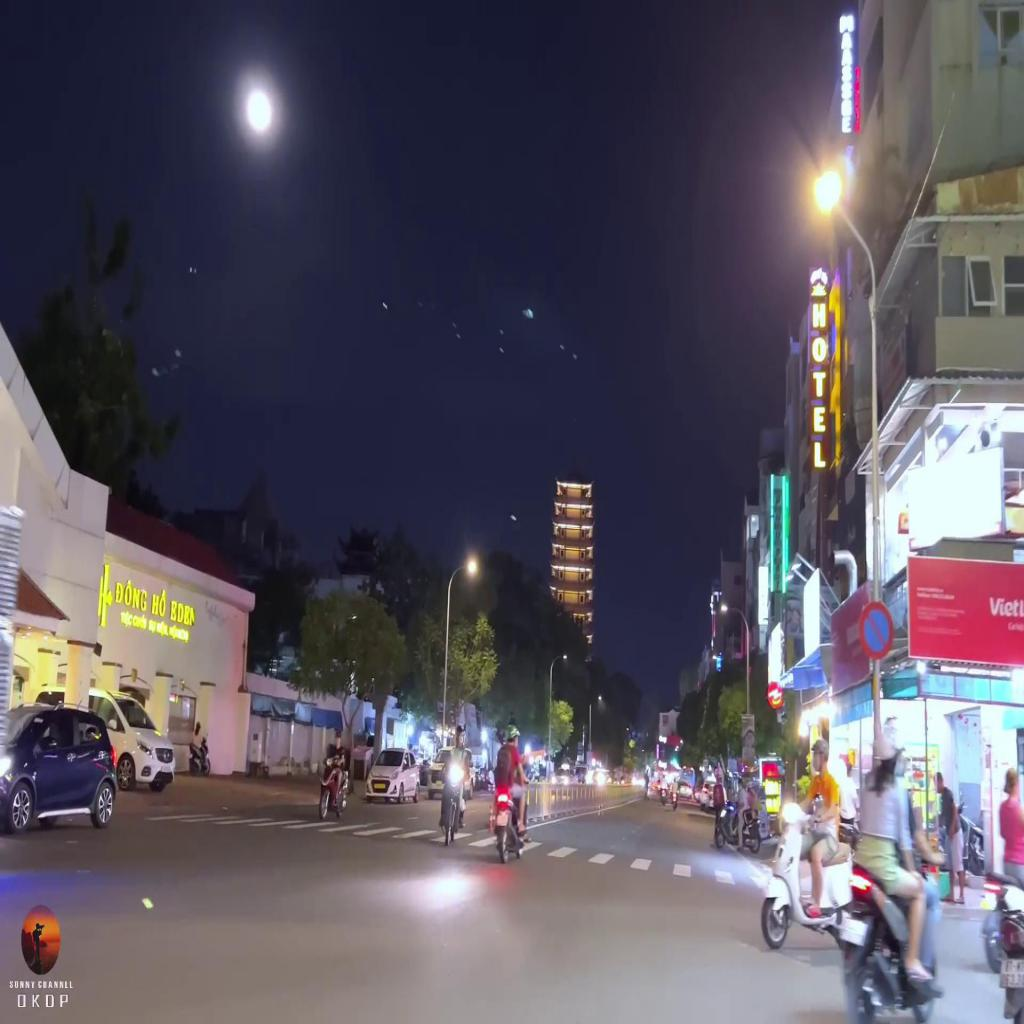cam_do_xe: (859, 598, 895, 661)
